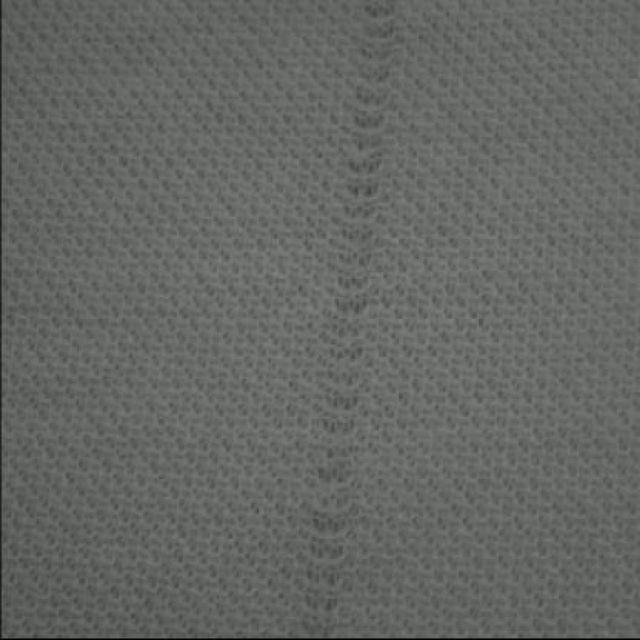Line: (304, 0, 399, 635)
